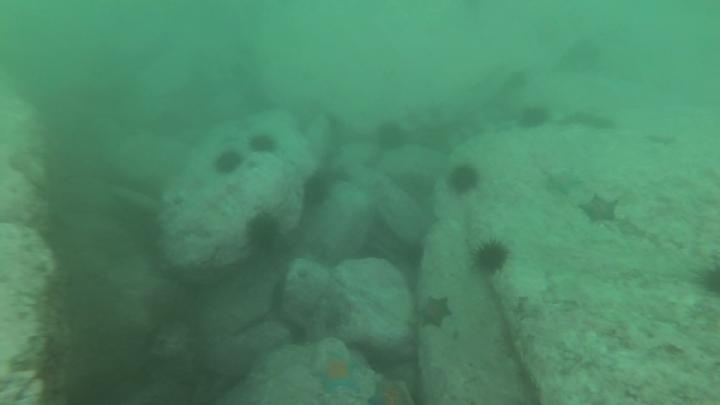echinus: (243, 210, 284, 254), (560, 36, 605, 75), (470, 237, 512, 276), (445, 162, 482, 197), (300, 173, 333, 210), (373, 120, 408, 154), (211, 147, 245, 178), (516, 103, 551, 132), (247, 130, 280, 157), (697, 262, 720, 298), (285, 322, 312, 348), (504, 67, 531, 92)
holothurian: (559, 106, 618, 133)
starfish: (311, 350, 362, 395), (577, 191, 621, 227), (414, 294, 454, 331), (542, 166, 585, 198), (367, 377, 416, 405), (643, 128, 678, 147)
